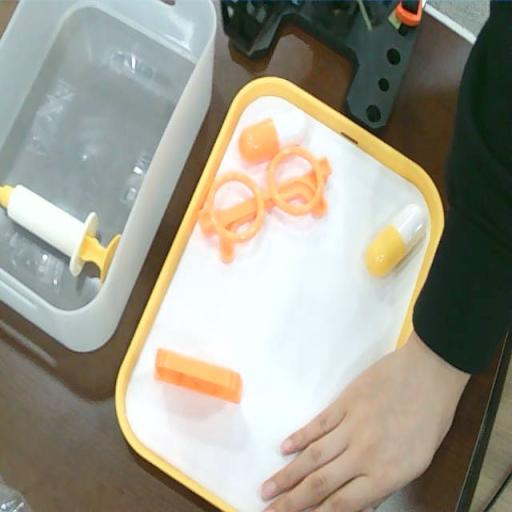hospital: (260, 367, 450, 512)
